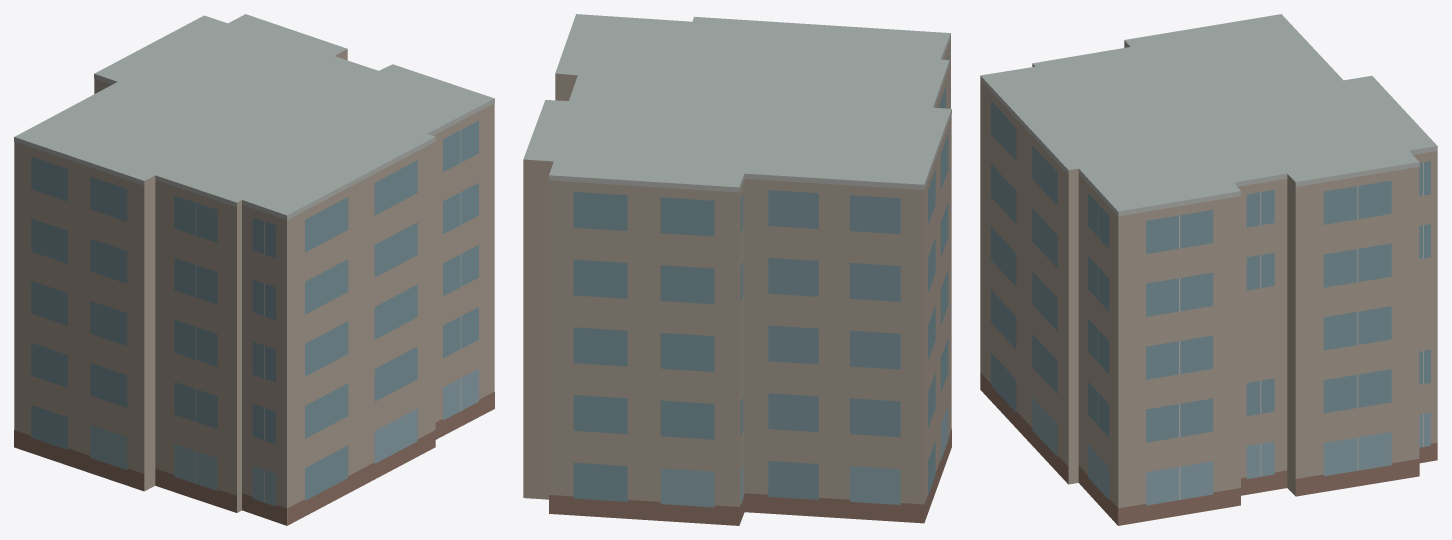
The model's file is survey-upis-32548832.glb.
3 renders of one model, left to right at view 1: azimuth 30°, elevation 25°; view 2: azimuth 150°, elevation 25°; view 3: azimuth 270°, elevation 25°, orthographic. The views are drawn at different scales.
Parts seen in each view (by area): view 1: survey-upis-32548832.tmp; view 2: survey-upis-32548832.tmp; view 3: survey-upis-32548832.tmp.
Boxes of the visible parts, box(x1,y1,x2,y2) form: survey-upis-32548832.tmp: box(14, 14, 494, 525); survey-upis-32548832.tmp: box(523, 14, 951, 525); survey-upis-32548832.tmp: box(980, 14, 1437, 525).
Bounding box in the file's own units: 21.45 × 15.9 × 20.97.
